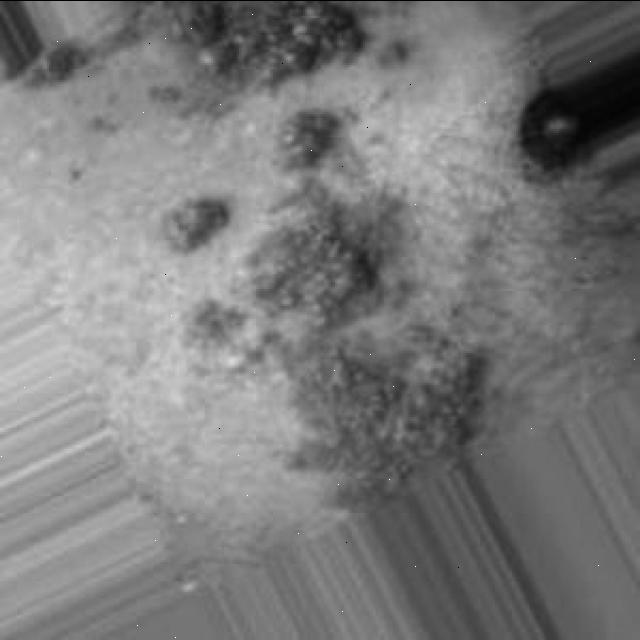Shingles: (182, 110, 488, 483), (170, 0, 366, 85), (164, 198, 228, 252)
